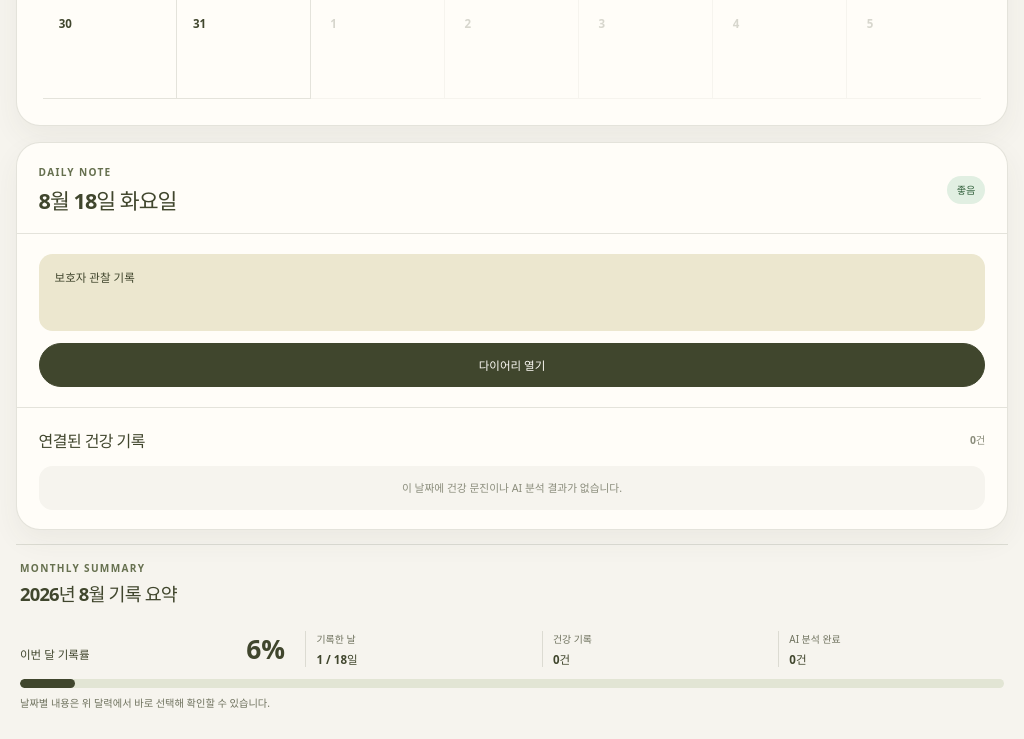
Test: HealthDiaryPage backend integration flow › keeps the existing entry when DELETE fails
(page scrolled)
Click the button "다이어리 열기" at (512, 365), box [39, 343, 985, 388]
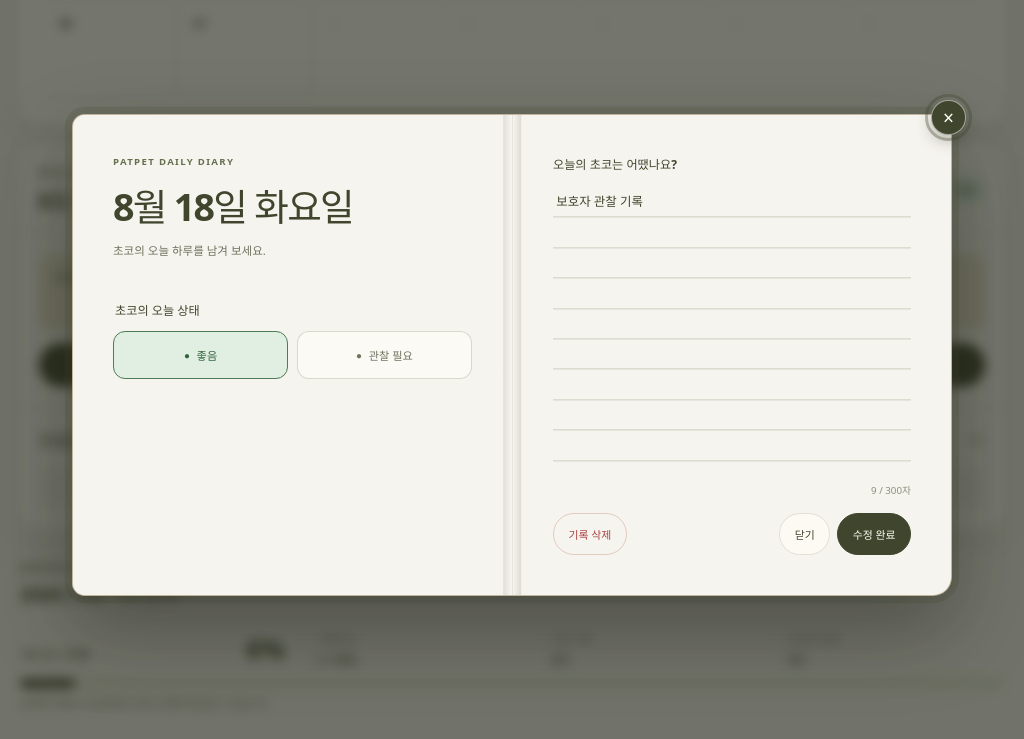
Click the button "기록 삭제" at (590, 534), box [553, 513, 627, 555]
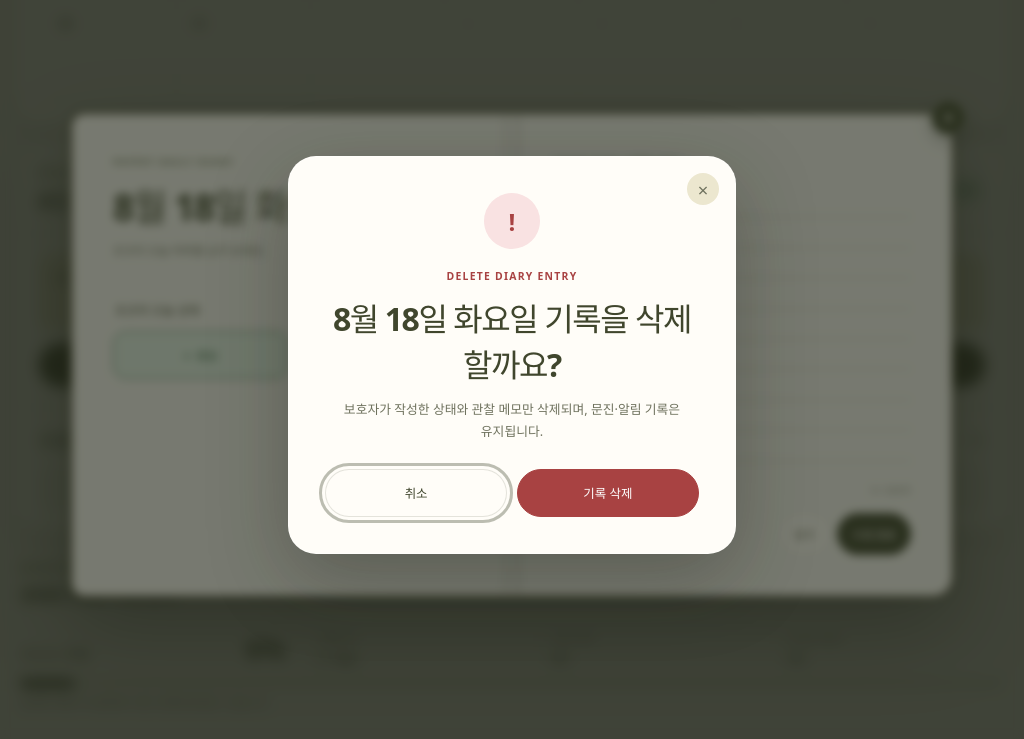
Click the button "기록 삭제" at (608, 492), box [517, 468, 699, 516]
(page scrolled)
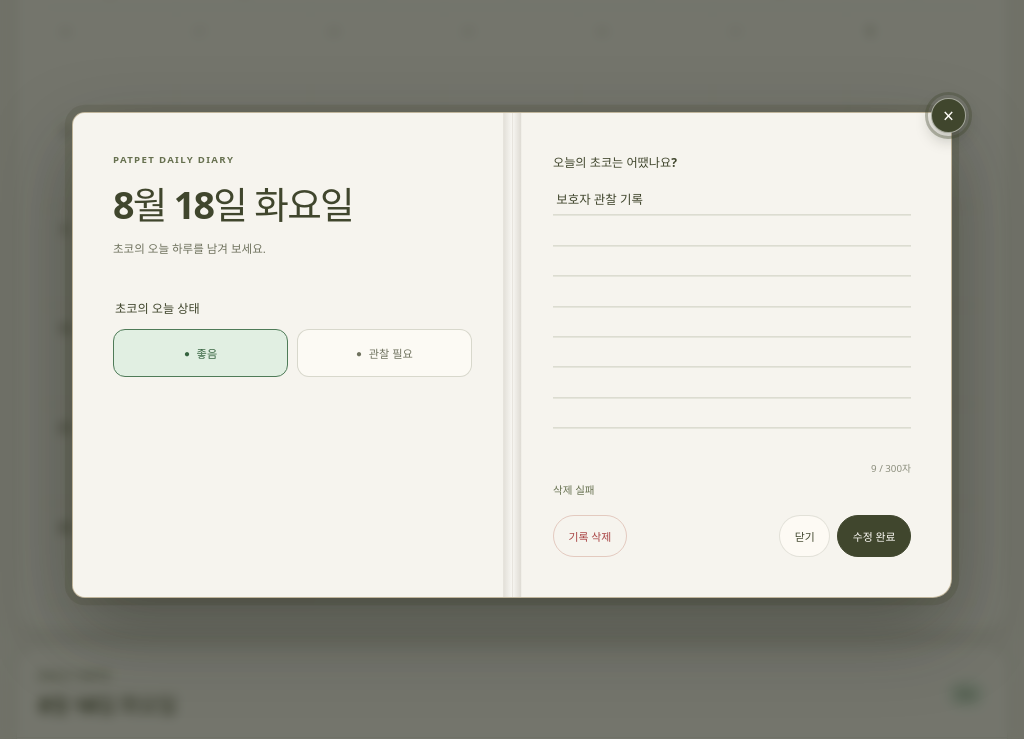
expect the button with aria-label "8월 18일, 좋음" is shown: met, box [311, 306, 445, 405]
expect the button "기록 삭제" is shown: met, box [553, 515, 627, 557]
expect the text "삭제 실패" is shown: met, box [553, 483, 595, 497]
